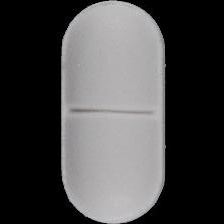68788-9723: (0, 0, 224, 224)
